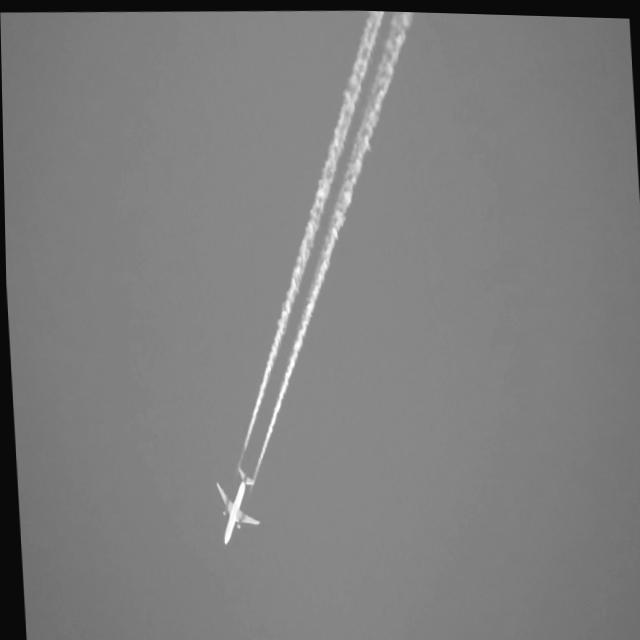aeroplane: (206, 449, 262, 554)
